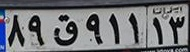character: (47, 13, 82, 48), (82, 11, 105, 47), (6, 12, 27, 49), (125, 9, 145, 47), (166, 14, 189, 45), (27, 12, 46, 48), (105, 10, 124, 46), (149, 14, 166, 47)
